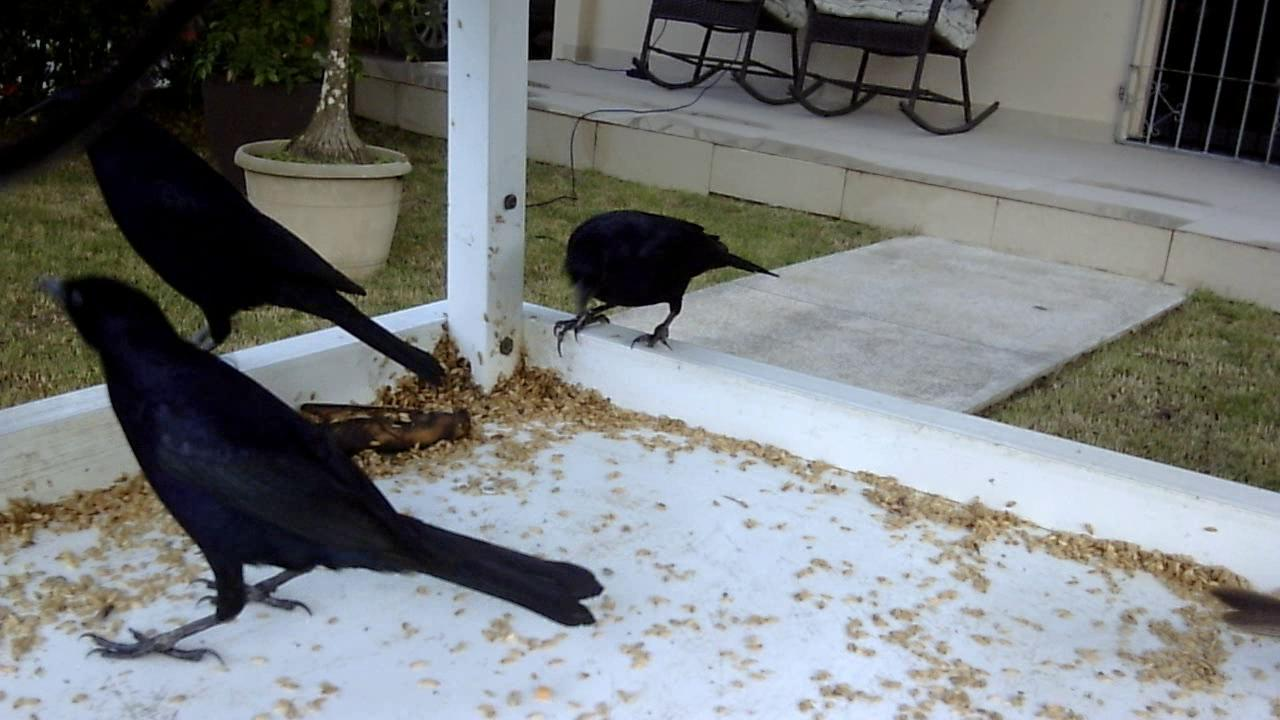chupim: (23, 286, 608, 675), (58, 86, 460, 400), (537, 200, 781, 371)
